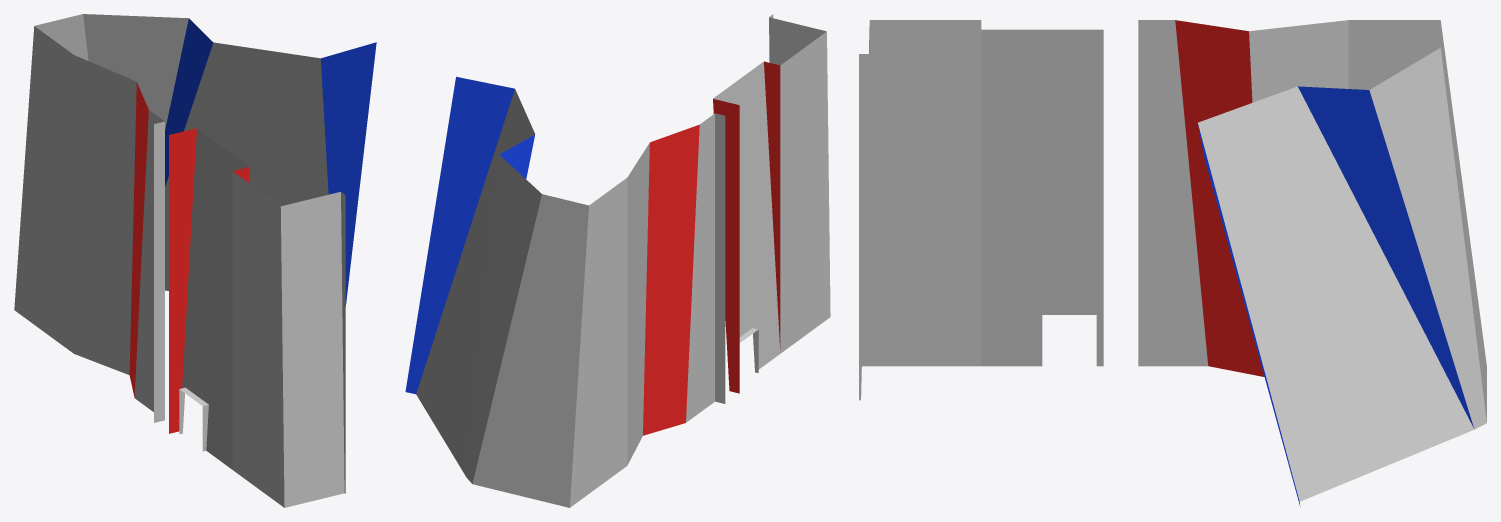
Rendered from espace_voie.gltf.
3 views of the same model, side by side, from view 1: azimuth 30°, elevation 25°; view 2: azimuth 150°, elevation 25°; view 3: azimuth 270°, elevation 25° (orthographic). The views are drawn at different scales.
Parts seen in each view (by area): view 1: Plane; view 2: Plane; view 3: Plane.
Boxes of the visible parts, x1,y1,x2,y2 form: Plane: [14, 14, 376, 507]; Plane: [405, 14, 830, 507]; Plane: [859, 20, 1486, 506].
Size of the model in its own units: 12.18 by 13.3 by 21.87.
